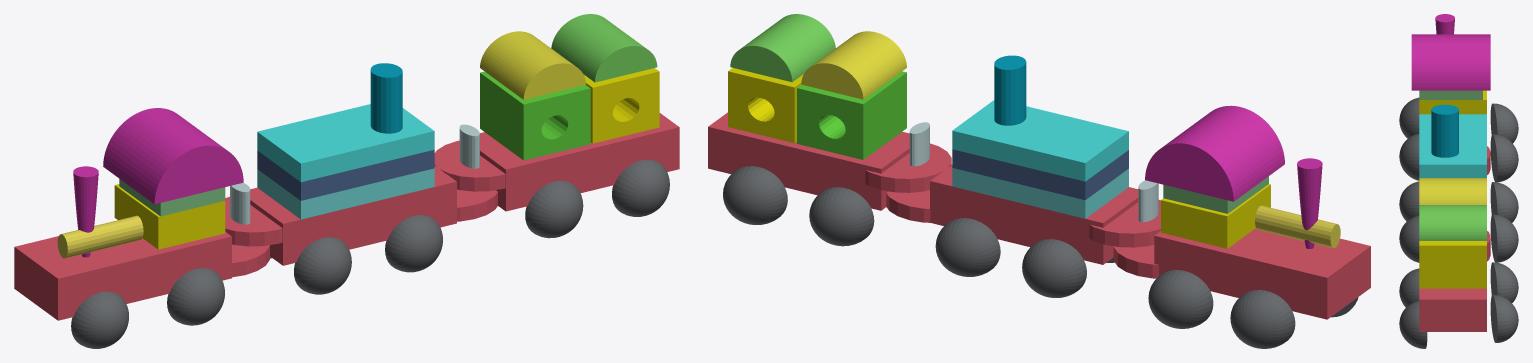
File: Amazing Krunk-Juttuli.glb
3 renders of one model, left to right at view 1: azimuth 30°, elevation 25°; view 2: azimuth 150°, elevation 25°; view 3: azimuth 270°, elevation 25°, orthographic. The views are drawn at different scales.
Visible parts, largest first — view 1: Mesh_Mesh_head_geo.001_lambert2SG.001; view 2: Mesh_Mesh_head_geo.001_lambert2SG.001; view 3: Mesh_Mesh_head_geo.001_lambert2SG.001.
Part boxes in pixels (<box>): Mesh_Mesh_head_geo.001_lambert2SG.001: <box>14,14,679,348</box>; Mesh_Mesh_head_geo.001_lambert2SG.001: <box>708,14,1370,348</box>; Mesh_Mesh_head_geo.001_lambert2SG.001: <box>1399,14,1518,348</box>.
Size of the model in its own units: 140 by 41 by 30.05.
